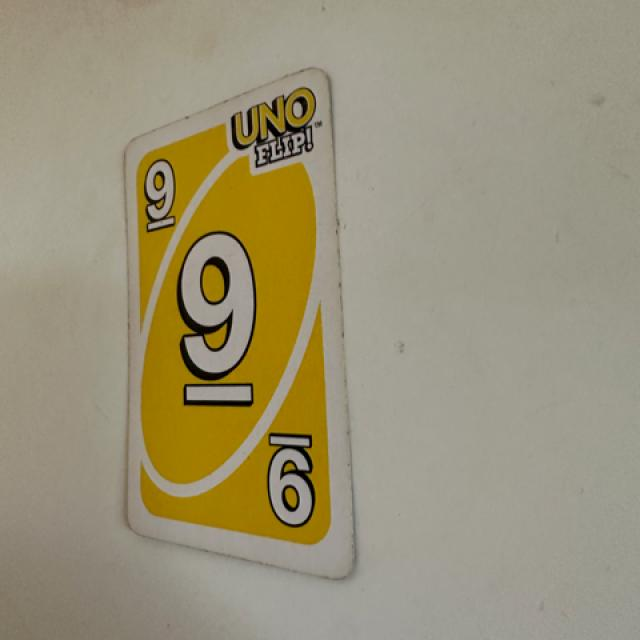lyellow-9: (132, 145, 192, 239)
